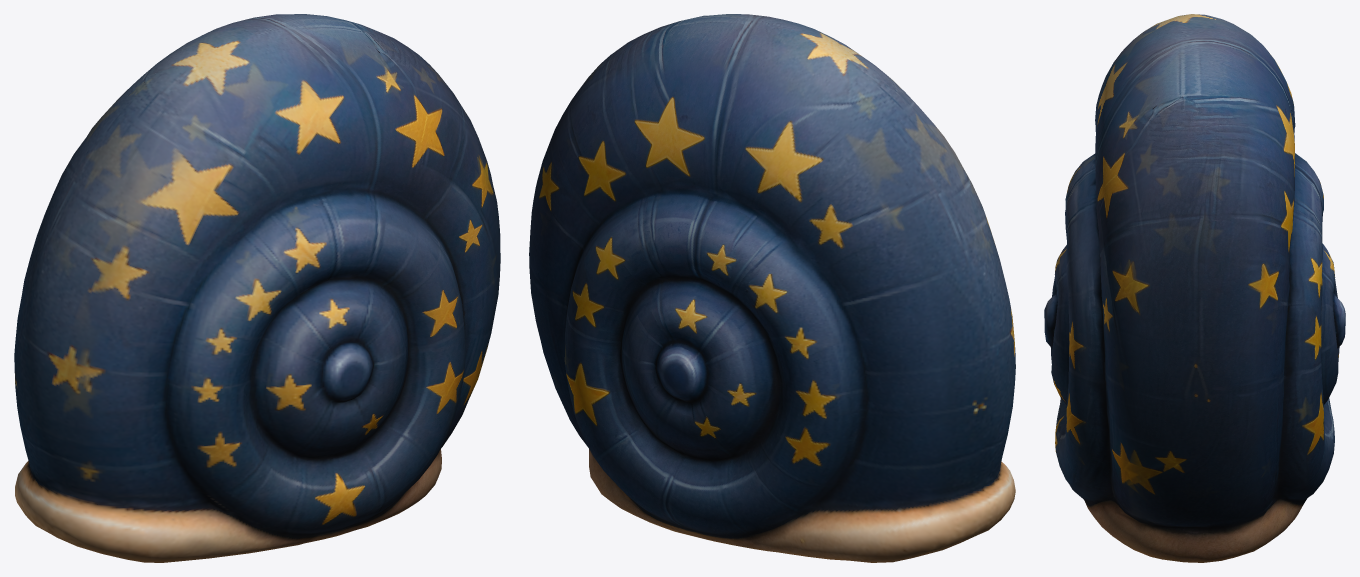
File: Item_Shell_Star.glb
3 renders of one model, left to right at view 1: azimuth 30°, elevation 25°; view 2: azimuth 150°, elevation 25°; view 3: azimuth 270°, elevation 25°, orthographic. The views are drawn at different scales.
Visible parts, largest first — view 1: input; view 2: input; view 3: input.
Boxes of the visible parts, left/top/right/bottom form: input: left=14, top=14, right=500, bottom=562; input: left=529, top=14, right=1015, bottom=562; input: left=1044, top=14, right=1345, bottom=562.
Bounding box in the file's own units: 1 × 0.9994 × 0.5932.
Materials: 1 (1 with a texture image).
